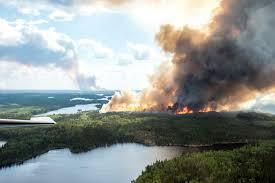yanwu: (99, 1, 275, 115)
